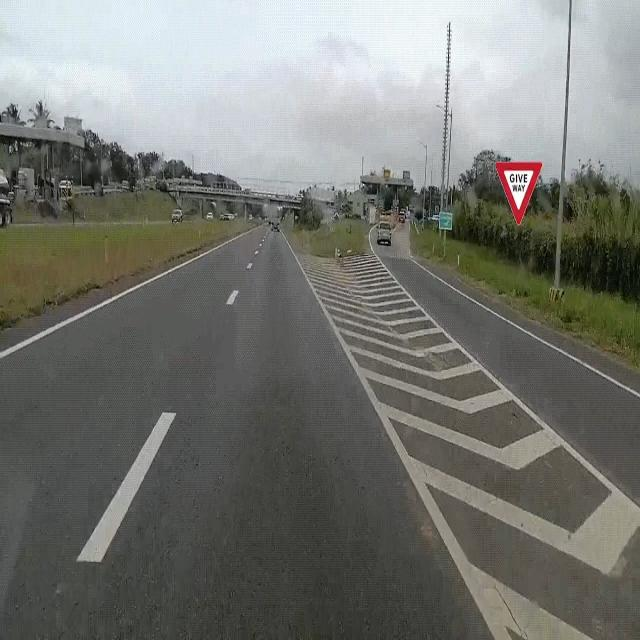Ceder-le-Passage: (494, 153, 548, 227)
